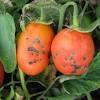tomato bacterial spot: (17, 22, 56, 78), (52, 29, 96, 77)
